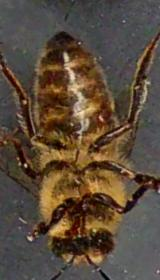varroa_mite: (90, 104, 118, 124)
